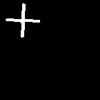single_crochet: (6, 4, 39, 36)
